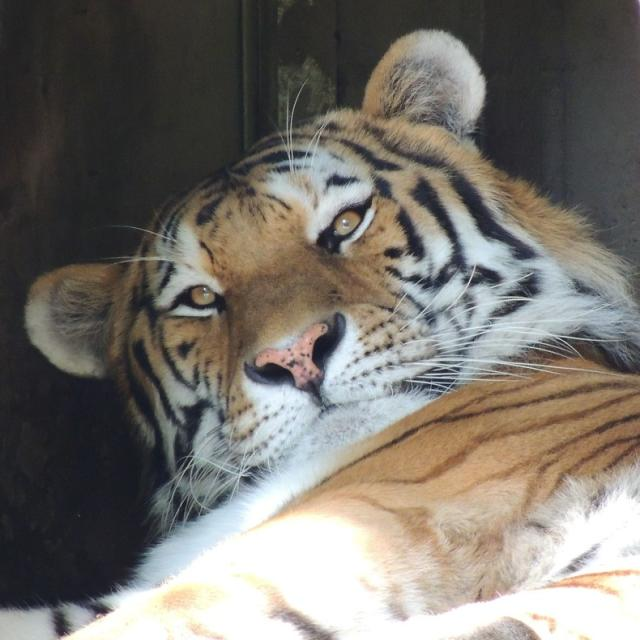Tiger: (18, 26, 639, 638)
